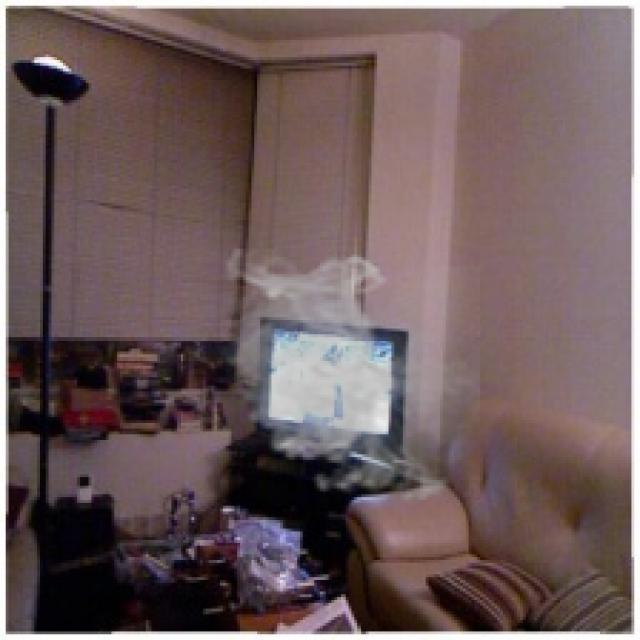smoke: (217, 248, 480, 508)
